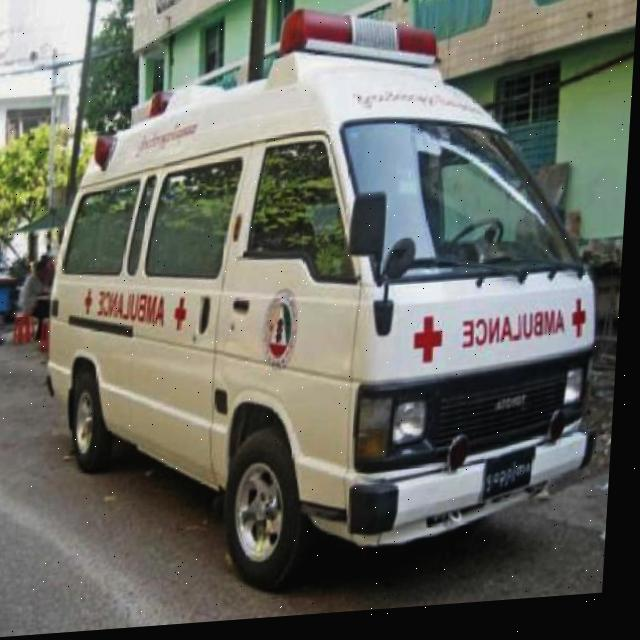emergency: (36, 0, 624, 610)
